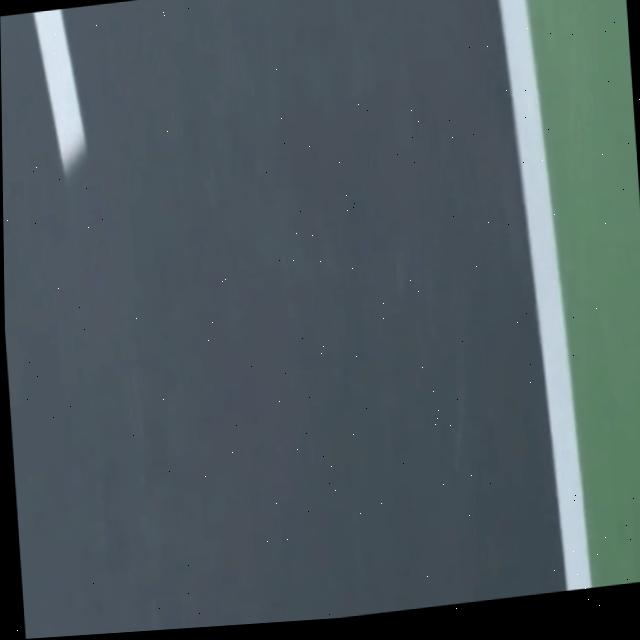center: (33, 9, 85, 173)
right: (498, 0, 592, 591)
